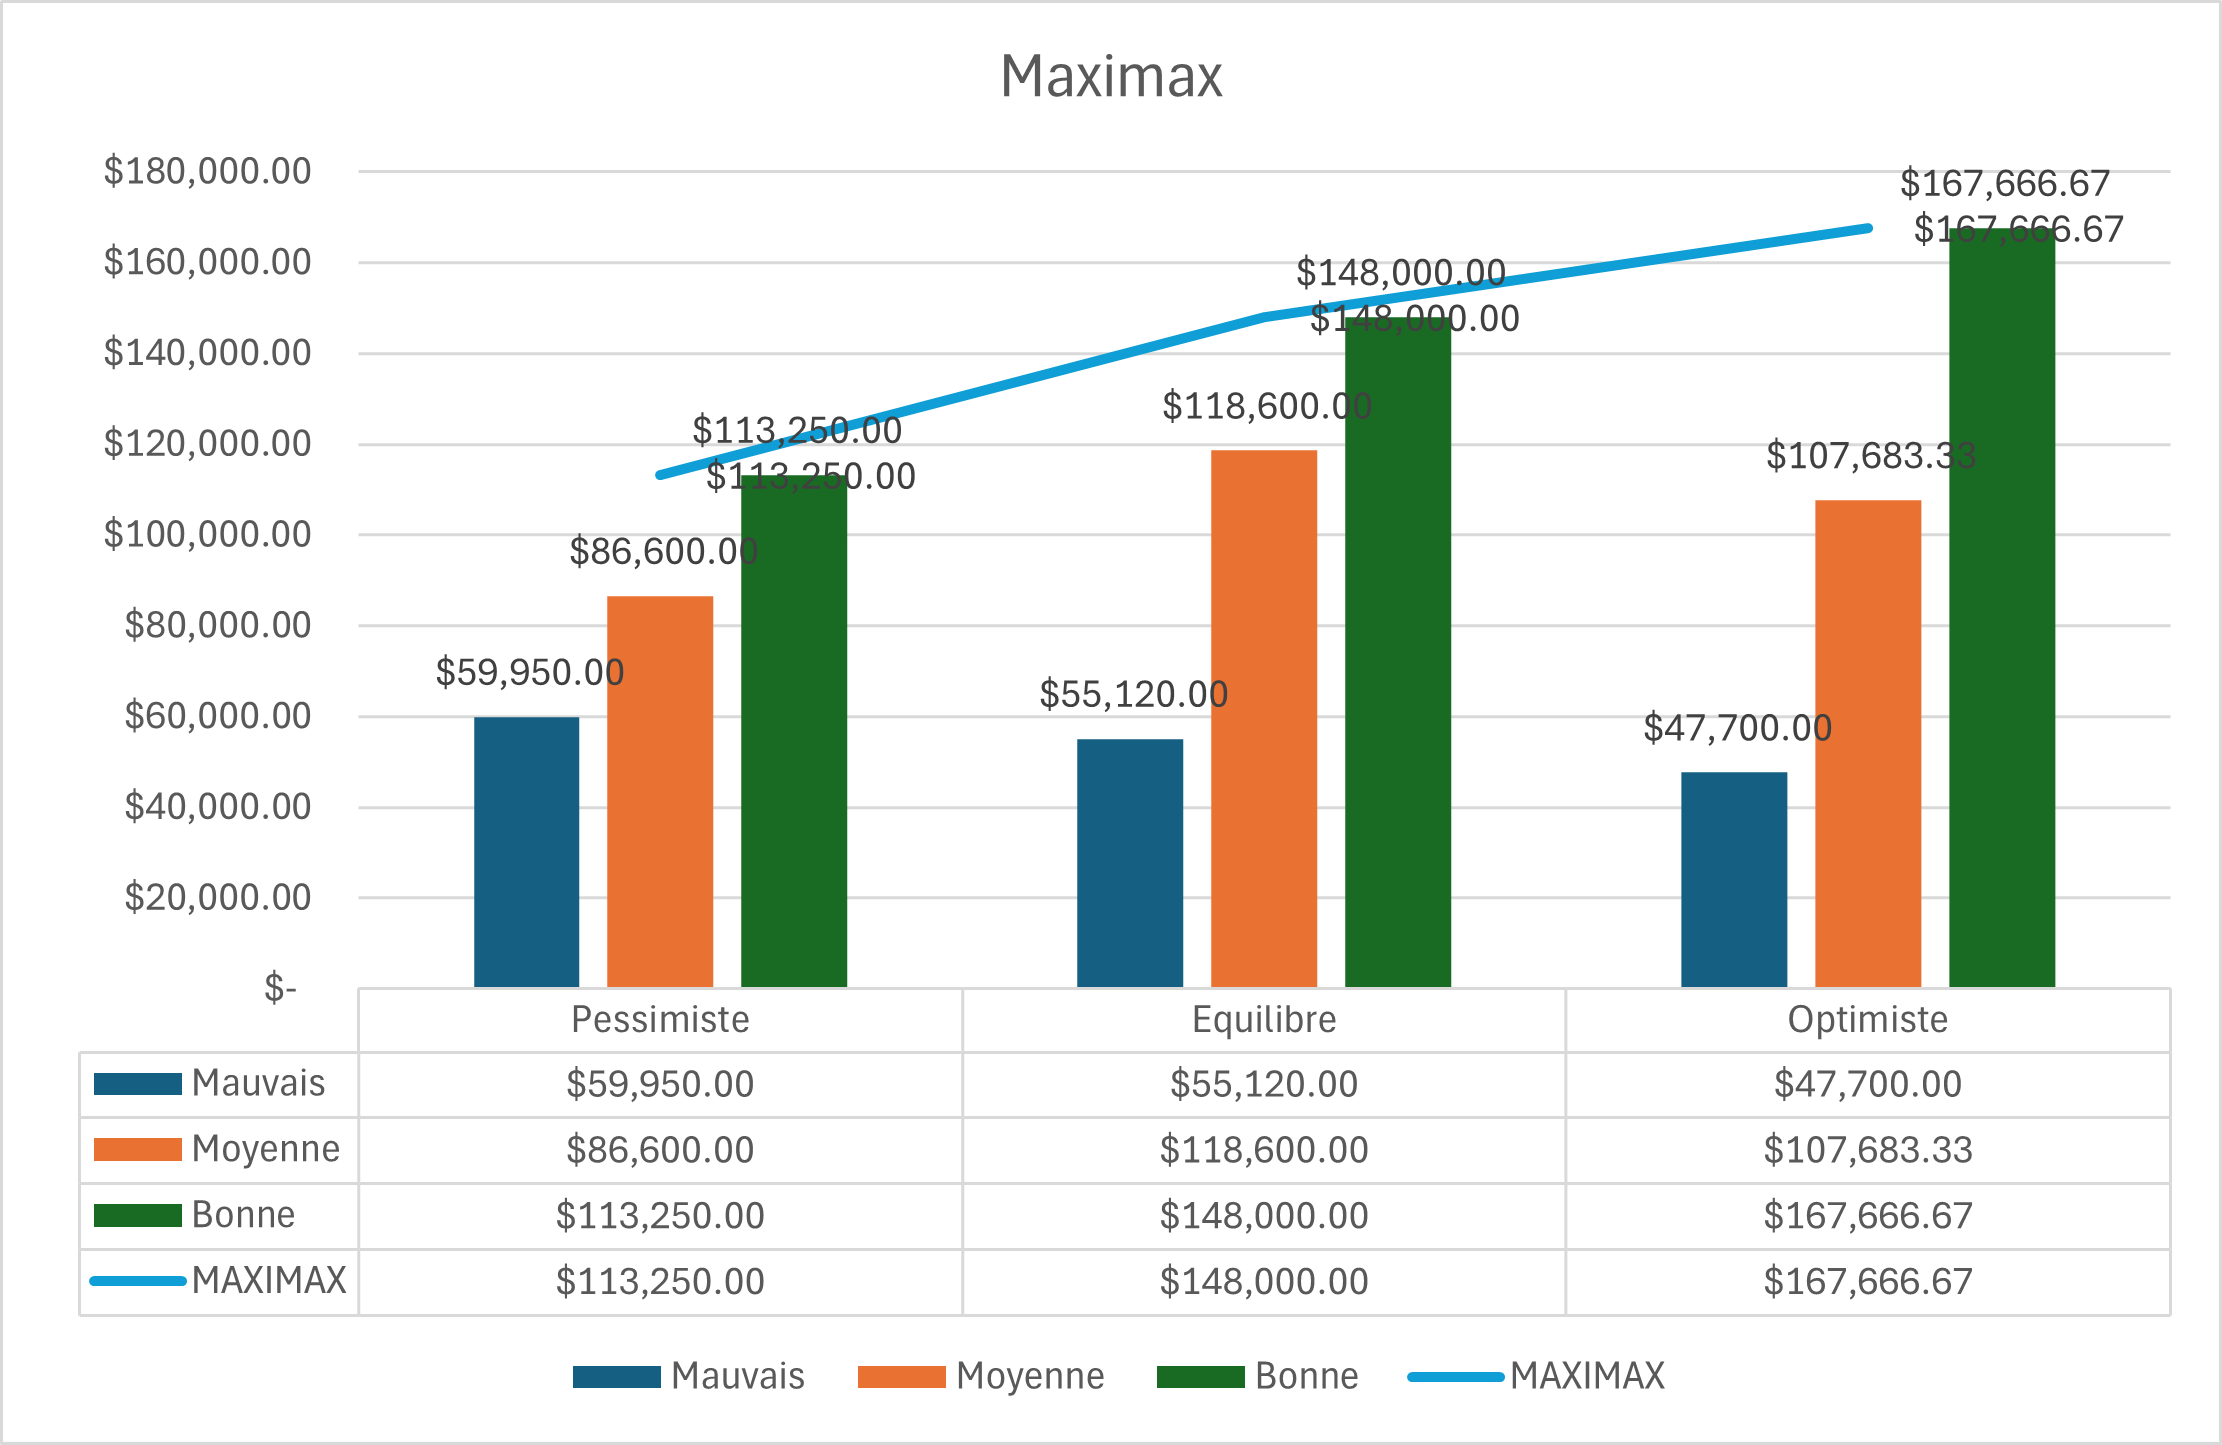

The page's visual inventory and layout, read from the dashboard file:
{"tool":"tableau","page":{"name":"Dashboard 2","canvas":[1000,800],"ordinal":1},"visuals":[{"type":"worksheet","title":"Sheet 4","mark":"Automatic","rows":["ORIGIN","DEST","FL_DATE","FL_DATE","FL_DATE"],"cols":["AIRLINE_CODE"],"box":[8,8,984,784]}]}

Visuals, with their boxes on the page's 1000x800 design canvas (x1, y1, x2, y2). These are canvas units, not pixel positions in the 2222x1445 screenshot, which may show the page scaled, cropped or inside an application window:
"Sheet 4" worksheet: locate(8, 8, 992, 792)
